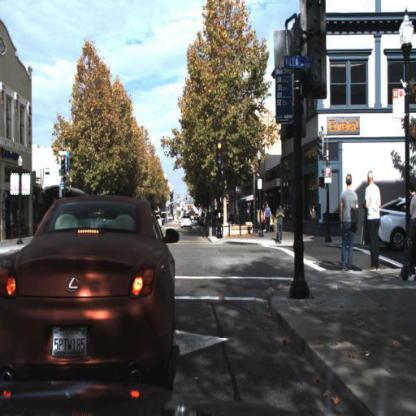car: (1, 193, 182, 397), (180, 212, 194, 232)
pedestrian: (362, 170, 383, 270), (341, 171, 360, 271), (402, 183, 416, 275), (275, 203, 287, 243), (264, 204, 273, 235), (257, 212, 264, 244), (51, 168, 57, 181)
trafficLight-Red: (216, 141, 224, 170), (60, 156, 67, 179)
